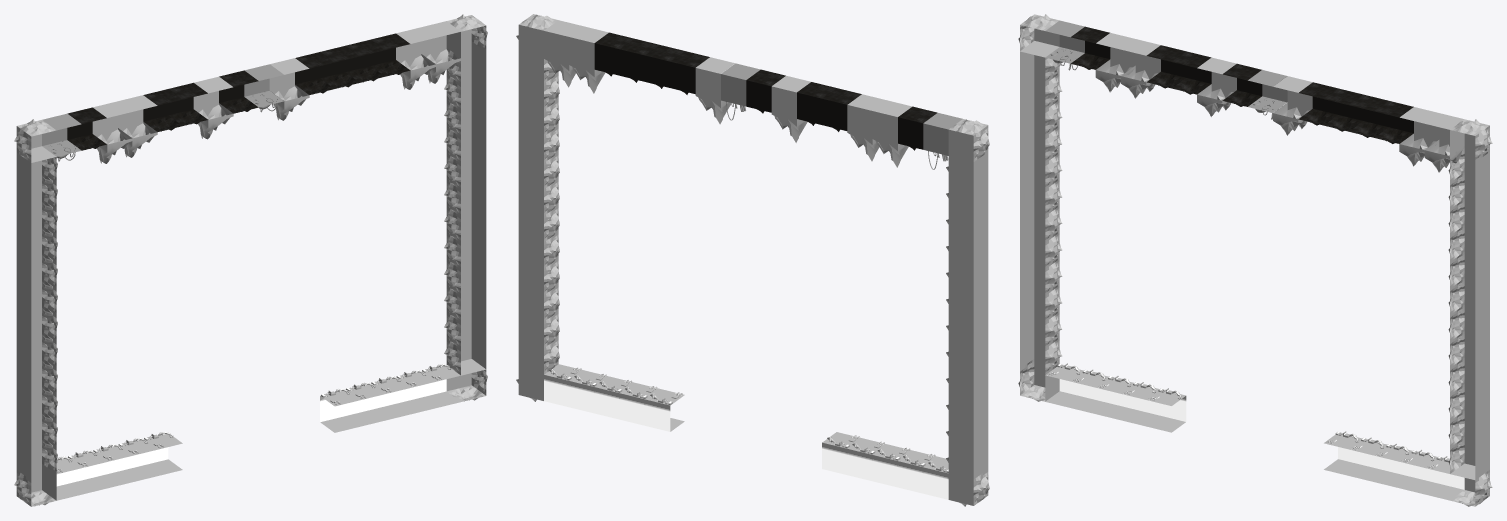
File: Cubi_Room7.fbx
The picture shows the model from 3 angles, left to right: view 1: azimuth 30°, elevation 25°; view 2: azimuth 150°, elevation 25°; view 3: azimuth 330°, elevation 25°; orthographic projection.
Parts seen in each view (by area): view 1: Cubes_Room7; view 2: Cubes_Room7; view 3: Cubes_Room7.
Boxes of the visible parts, x1,y1,x2,y2 form: Cubes_Room7: (14,14,487,506); Cubes_Room7: (516,14,989,506); Cubes_Room7: (1018,14,1492,506).
Size of the model in its own units: 1845 by 1445 by 100.
